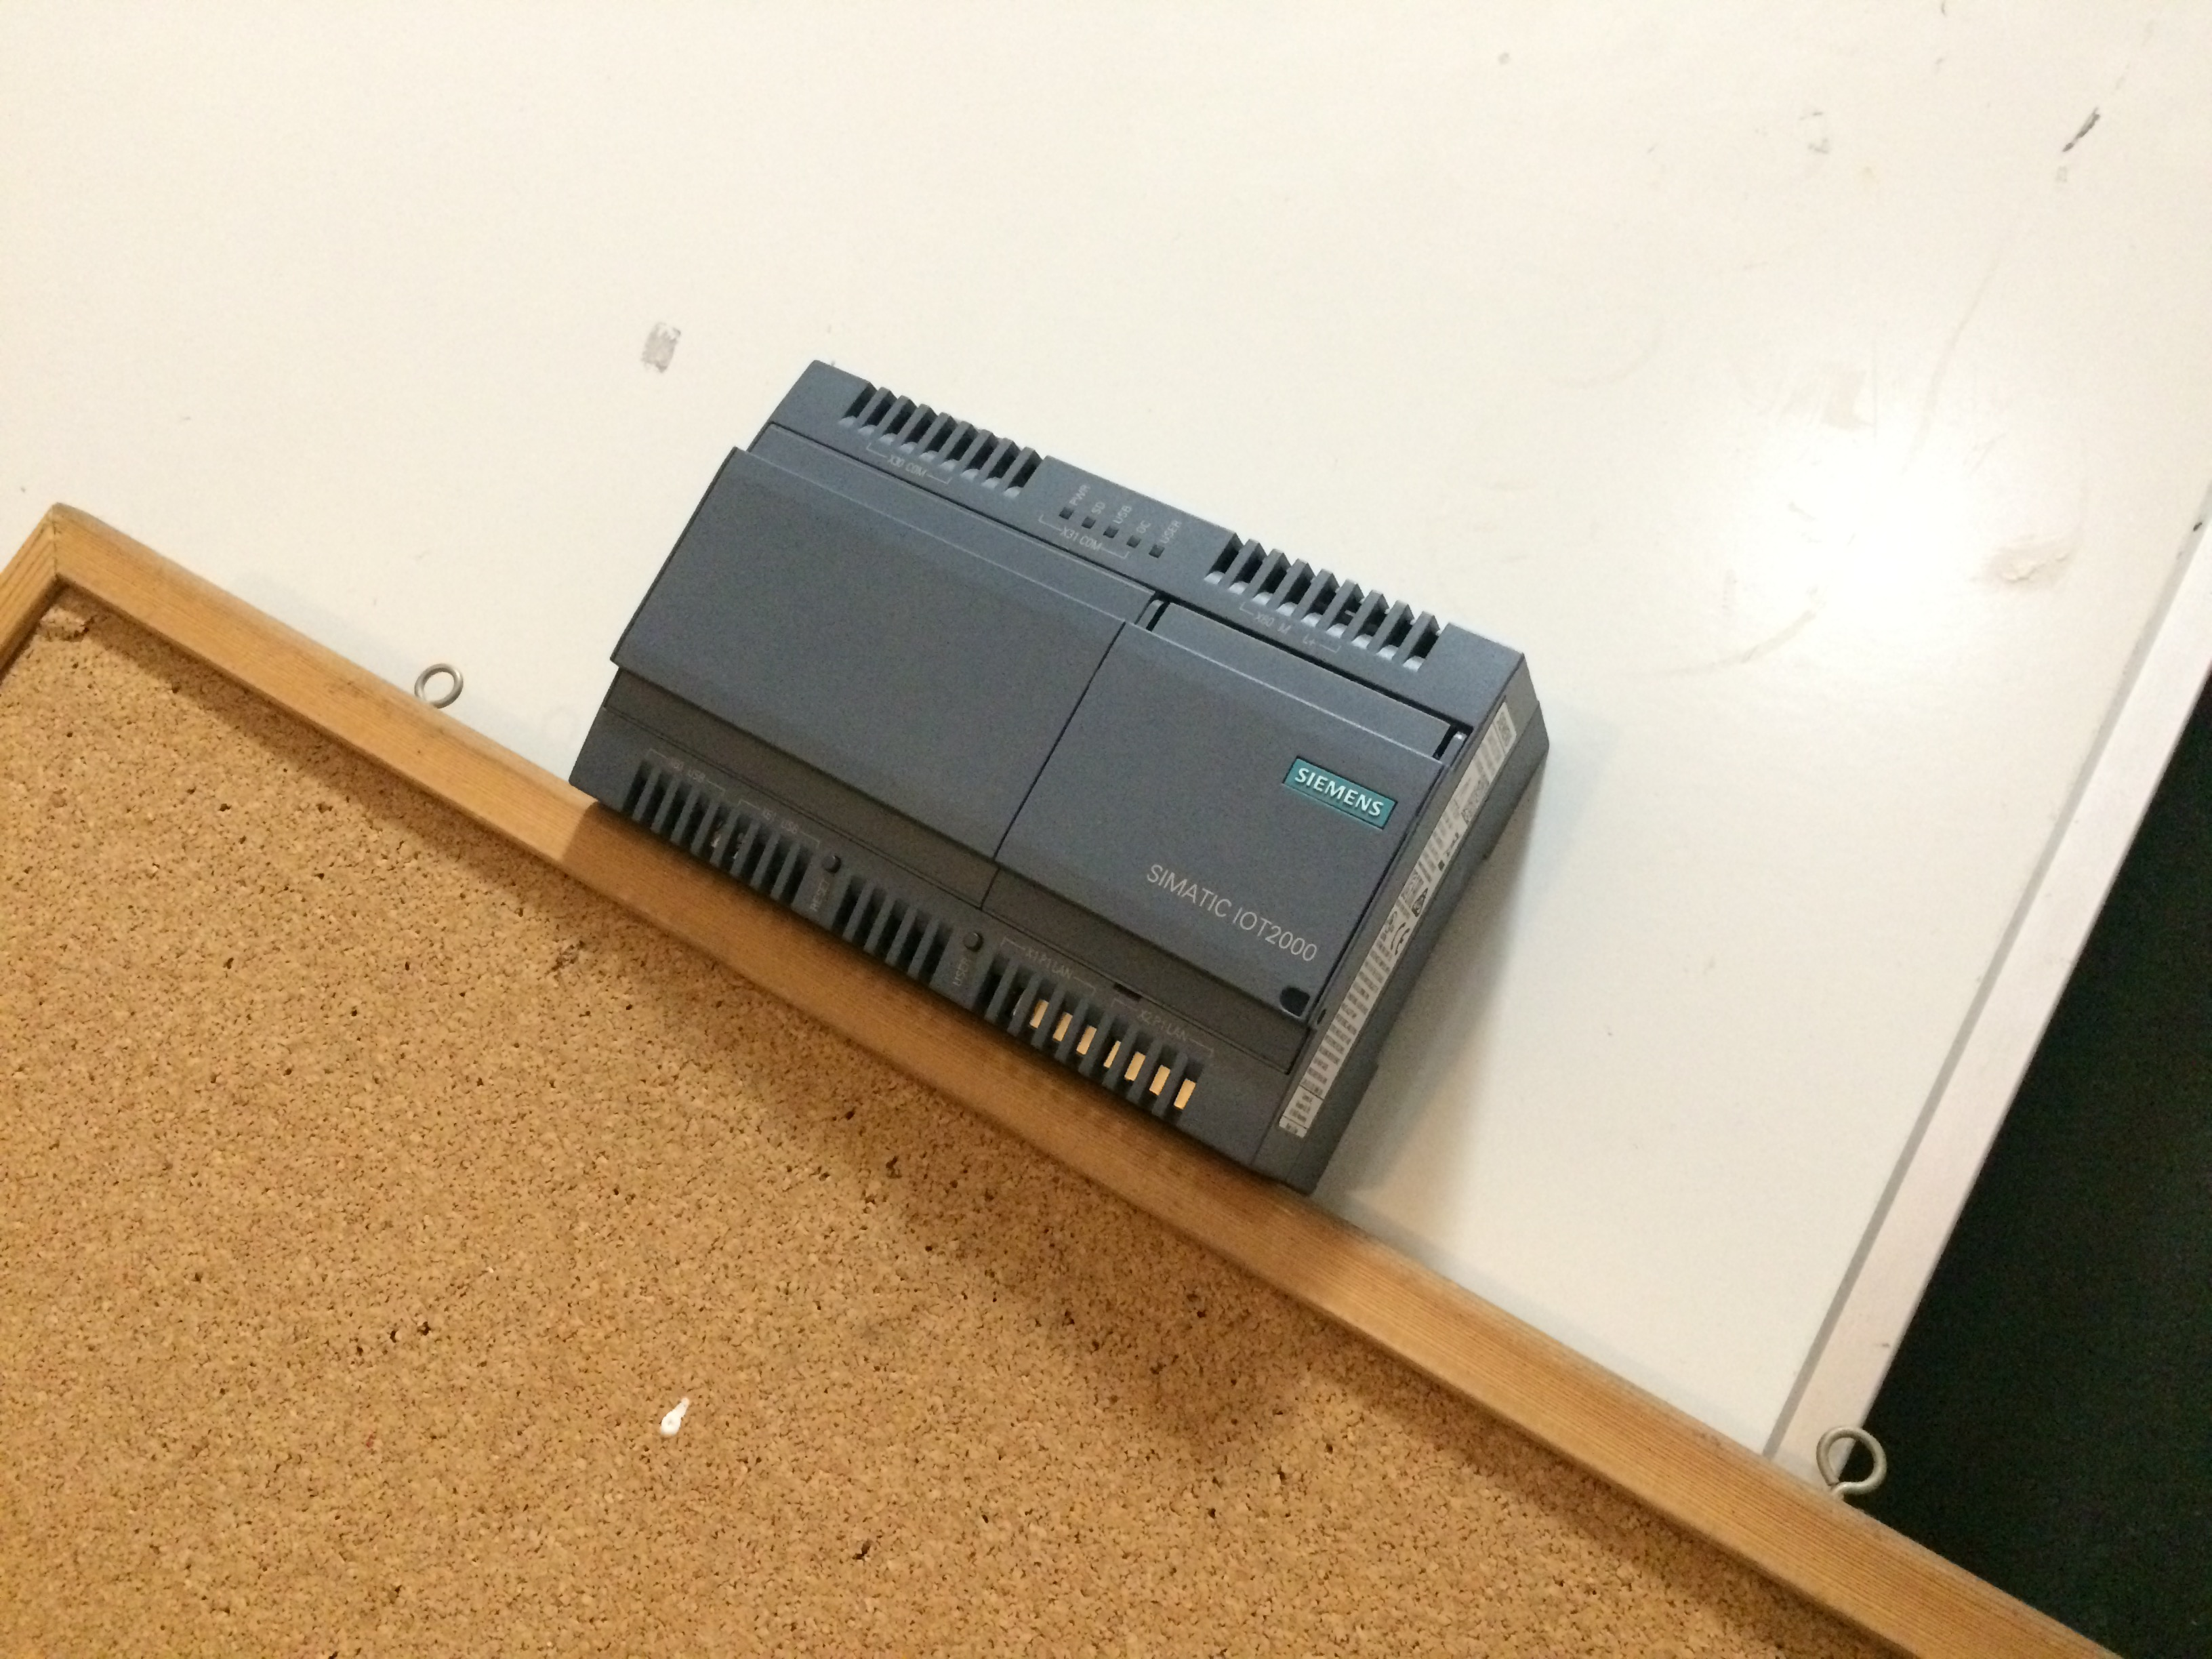iot2000: (564, 355, 1557, 1204)
